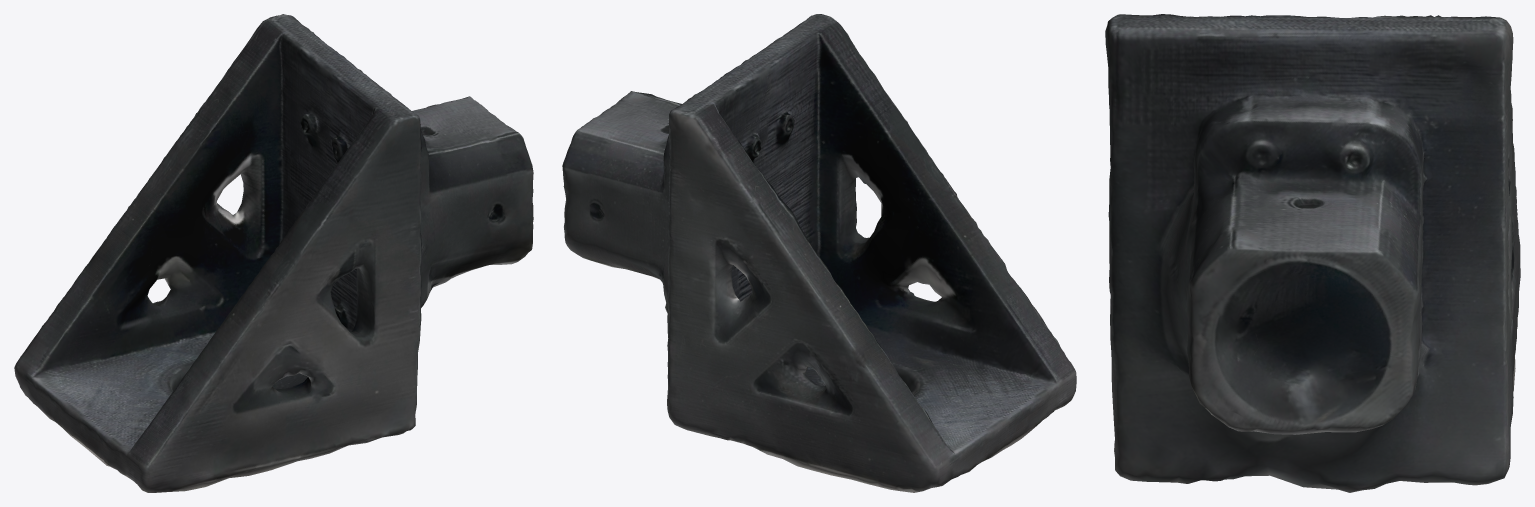
The model's file is triangle_cad.obj.
3 views of the same model, side by side, from view 1: azimuth 30°, elevation 25°; view 2: azimuth 150°, elevation 25°; view 3: azimuth 270°, elevation 25° (orthographic). The views are drawn at different scales.
Visible parts, largest first — view 1: mesh_0; view 2: mesh_0; view 3: mesh_0.
Part boxes in pixels (x1,y1,x2,y2): mesh_0: (14, 14, 533, 492); mesh_0: (562, 14, 1076, 492); mesh_0: (1105, 14, 1520, 492).
Bounding box in the file's own units: 0.1242 × 0.0942 × 0.0747.
Materials: 1 (1 with a texture image).
